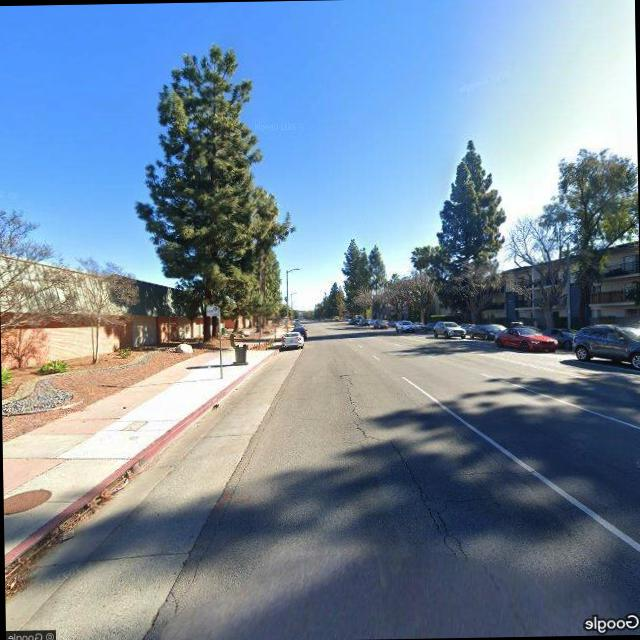crack: (339, 370, 472, 554), (434, 462, 608, 483)
